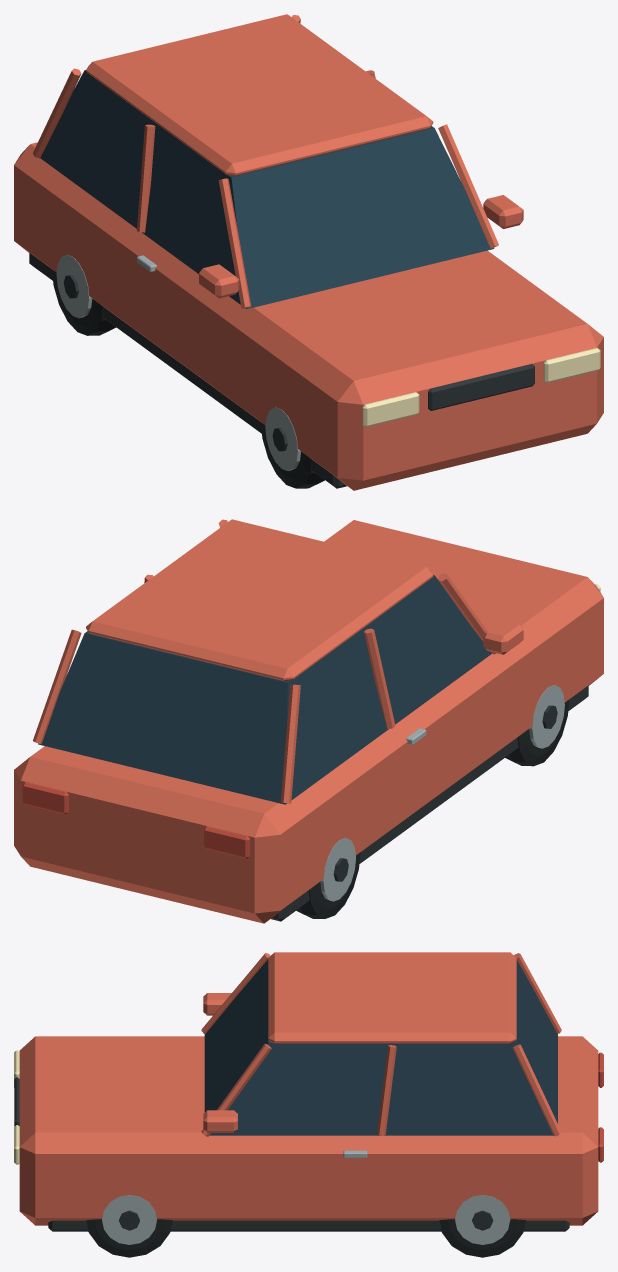
The model's file is car-hatch-01.glb.
The picture shows the model from 3 angles, top to bottom: view 1: azimuth 30°, elevation 25°; view 2: azimuth 150°, elevation 25°; view 3: azimuth 270°, elevation 25°; orthographic projection. The views are drawn at different scales.
Visible parts, largest first — view 1: Body, Glass, Roof, Sill, FrontGrille, WindowPillar, Rim_FR, Rim_RR, Lamp_Head.001, Lamp_Head, WindowPillar.003, WindowPillar.001 (+5 smaller); view 2: Body, Glass, Roof, Sill, Rim_FR, Rim_RR, WindowPillar.002, WindowPillar.005, Tyre_RR, Tyre_FR, Lamp_Tail.001, WindowPillar.001 (+3 smaller); view 3: Body, Glass, Roof, Sill, Rim_RL, Rim_FL, Tyre_FL, Tyre_RL, WindowPillar.005, WindowPillar.004, WindowPillar.003, Mirror.001 (+3 smaller).
Part boxes in pixels (left/top/right/bottom): Body: left=14, top=142, right=603, bottom=490; Glass: left=40, top=70, right=494, bottom=308; Roof: left=86, top=14, right=433, bottom=175; Sill: left=29, top=253, right=346, bottom=488; FrontGrille: left=428, top=364, right=534, bottom=410; WindowPillar: left=218, top=178, right=251, bottom=308; Rim_FR: left=265, top=407, right=300, bottom=470; Rim_RR: left=56, top=254, right=92, bottom=318; Lamp_Head.001: left=543, top=348, right=600, bottom=382; Lamp_Head: left=362, top=392, right=419, bottom=426; WindowPillar.003: left=438, top=124, right=498, bottom=248; WindowPillar.001: left=137, top=124, right=155, bottom=232; Body: left=14, top=520, right=603, bottom=923; Glass: left=38, top=575, right=491, bottom=804; Roof: left=86, top=519, right=433, bottom=680; Sill: left=271, top=685, right=588, bottom=921; Rim_FR: left=529, top=685, right=564, bottom=748; Rim_RR: left=320, top=837, right=355, bottom=901; WindowPillar.002: left=280, top=684, right=300, bottom=803; WindowPillar.005: left=33, top=629, right=81, bottom=744; Tyre_RR: left=296, top=852, right=360, bottom=918; Tyre_FR: left=505, top=699, right=569, bottom=766; Lamp_Tail.001: left=22, top=782, right=68, bottom=814; WindowPillar.001: left=364, top=628, right=395, bottom=728; Body: left=19, top=1036, right=598, bottom=1225; Glass: left=204, top=959, right=557, bottom=1135; Roof: left=268, top=952, right=516, bottom=1043; Sill: left=48, top=1220, right=569, bottom=1231; Rim_RL: left=455, top=1195, right=510, bottom=1244; Rim_FL: left=102, top=1195, right=156, bottom=1244; Tyre_FL: left=86, top=1219, right=172, bottom=1257; Tyre_RL: left=439, top=1219, right=525, bottom=1257; WindowPillar.005: left=513, top=1044, right=561, bottom=1136; WindowPillar.004: left=377, top=1045, right=396, bottom=1135; WindowPillar.003: left=201, top=1044, right=271, bottom=1136; Mirror.001: left=203, top=1110, right=237, bottom=1132.
Bounding box in the file's own units: 1.9 × 1.49 × 3.72.
